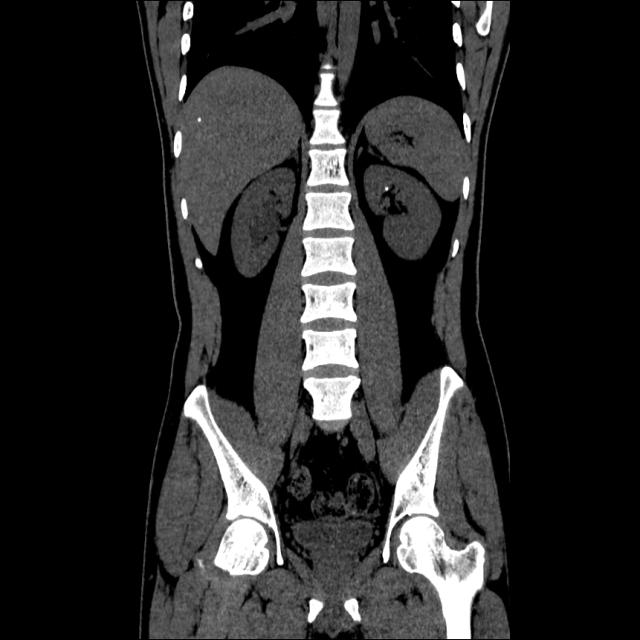kidneystone: (383, 184, 394, 196)
